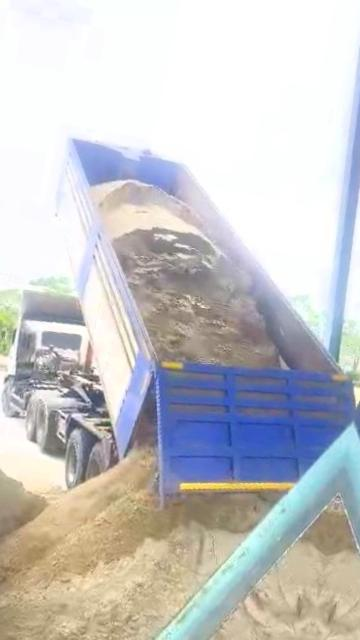sand: (0, 455, 270, 640), (93, 181, 279, 367), (170, 510, 334, 640), (0, 451, 46, 586), (130, 392, 157, 450), (31, 484, 64, 503)
